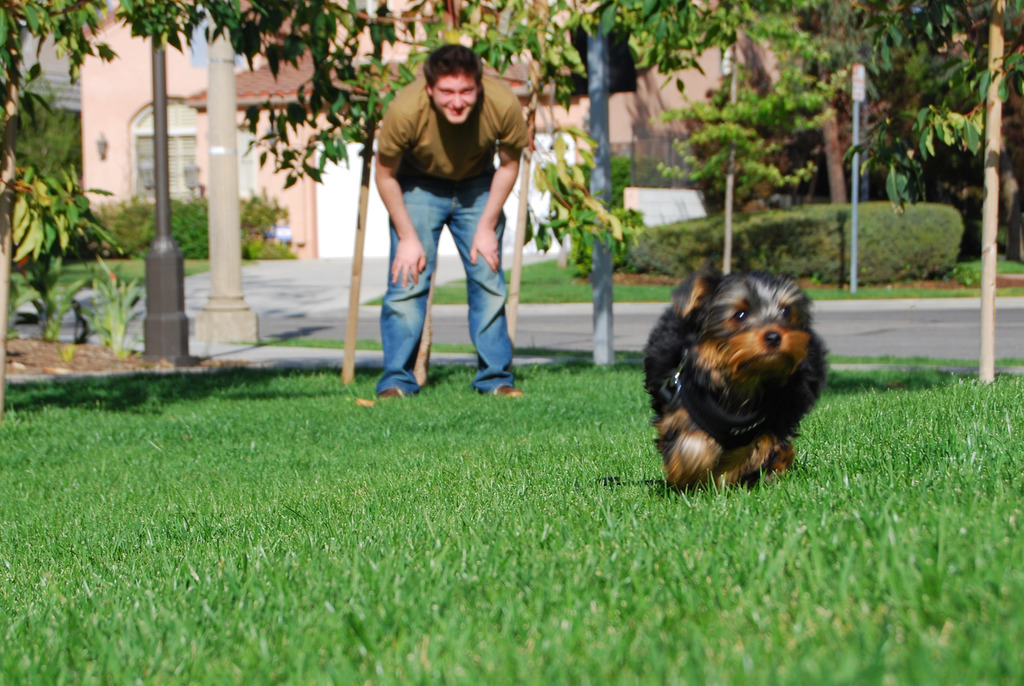Footwear: (493, 381, 524, 400), (380, 385, 411, 402)
